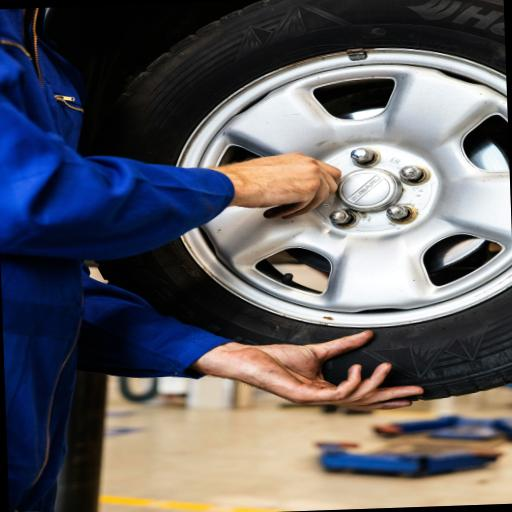Gloves: (192, 320, 428, 420), (194, 146, 372, 230)
